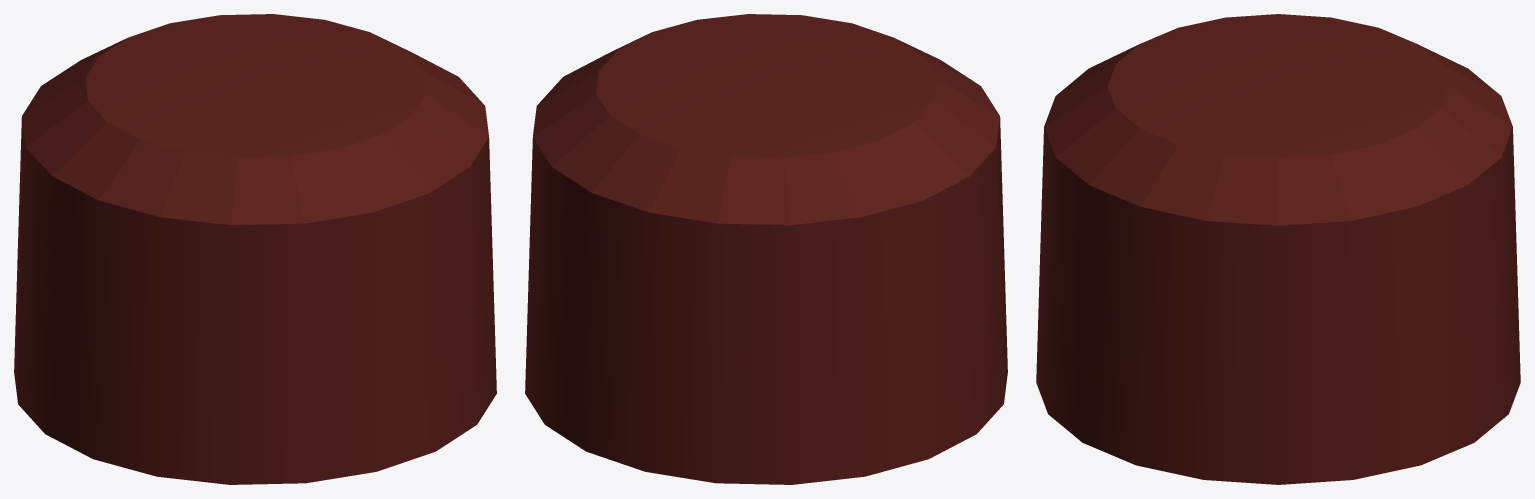
The model's file is red_wine_cap.fbx.
The picture shows the model from 3 angles, left to right: view 1: azimuth 30°, elevation 25°; view 2: azimuth 150°, elevation 25°; view 3: azimuth 270°, elevation 25°; orthographic projection.
Parts seen in each view (by area): view 1: pCylinder3; view 2: pCylinder3; view 3: pCylinder3.
Part boxes in pixels (<box>): pCylinder3: <box>14,14,496,484</box>; pCylinder3: <box>525,14,1007,484</box>; pCylinder3: <box>1036,14,1520,484</box>.
Bounding box in the file's own units: 2.01 × 1.42 × 2.01.
